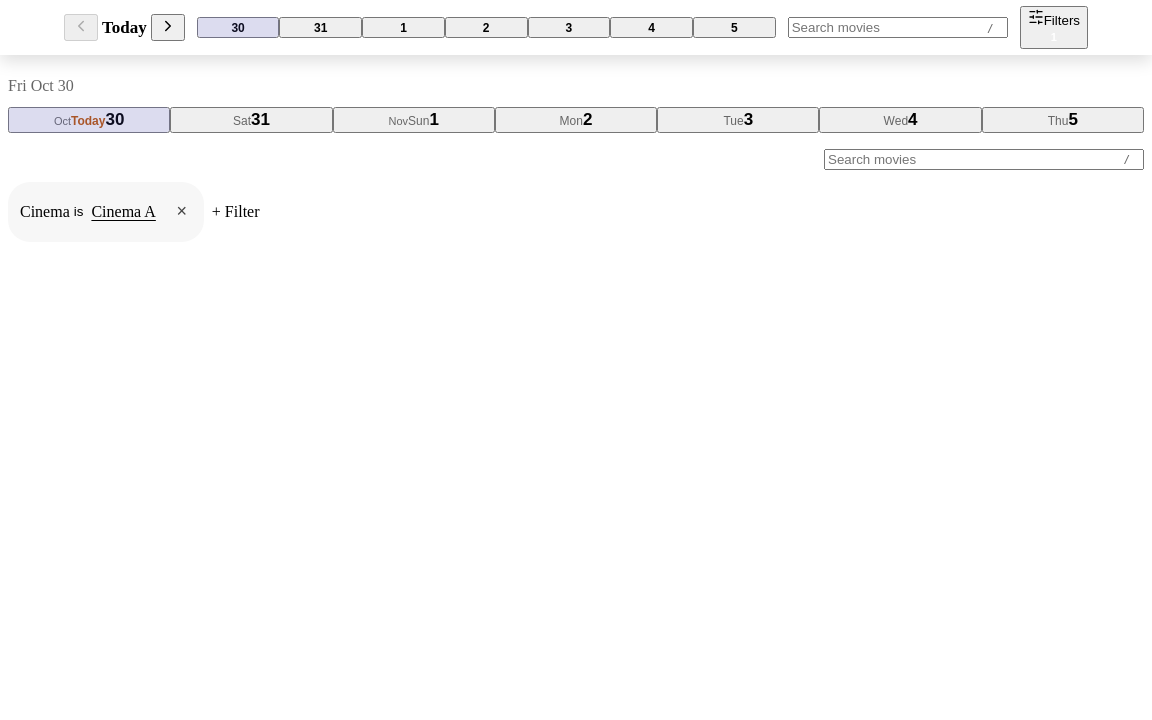
Scenario: edits the same chips from the Filters panel as the expanded header
Later steps or results of the test are not shown.
Click the button with aria-label "Filters (1 active)". click: {"x": 1054, "y": 28}
box: left=1020, top=6, right=1088, bottom=49
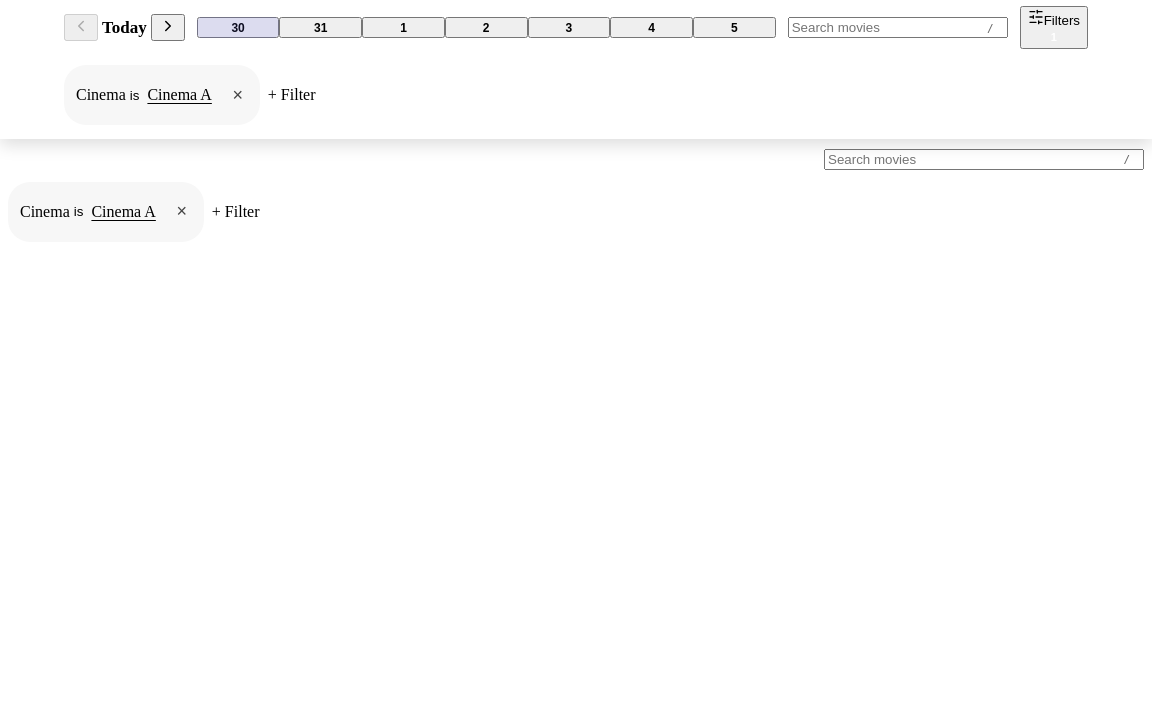
Expected: the element named "cinema filter" shows "Cinema is Cinema A", left=64, top=65, right=260, bottom=125
Click the button with aria-label "Change cinema operator from is". click: {"x": 135, "y": 95}
box: left=126, top=73, right=143, bottom=117
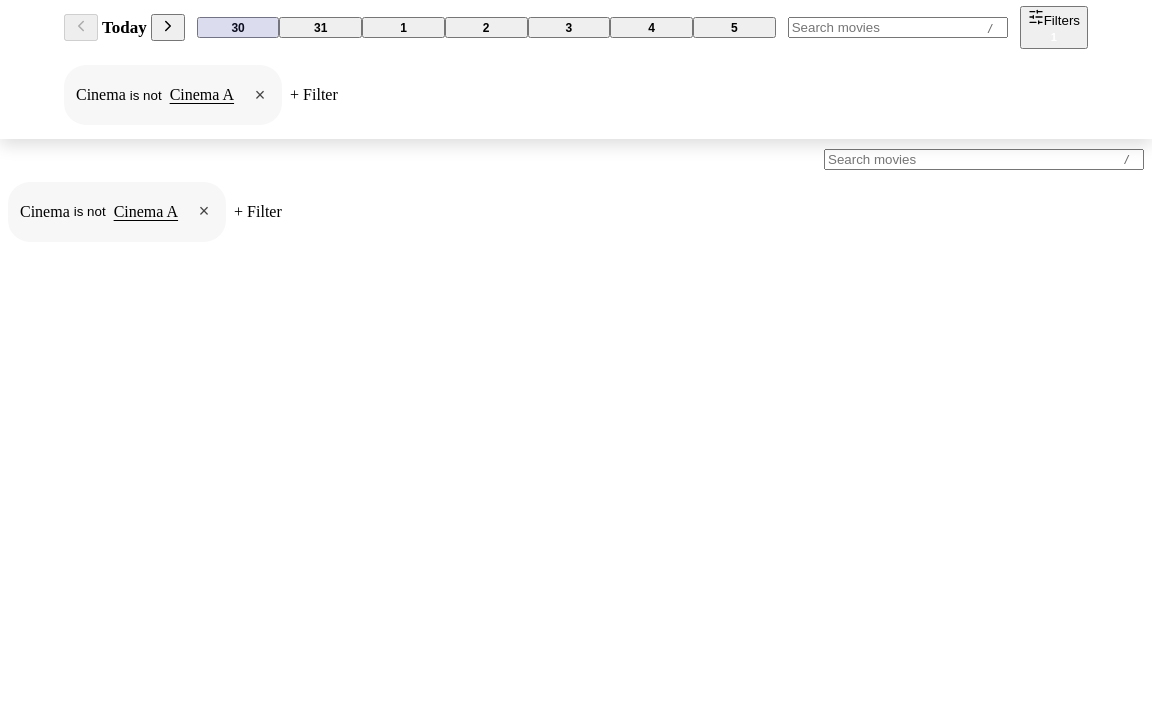
Expected: the element named "cinema filter" shows "Cinema is not Cinema A", left=8, top=182, right=226, bottom=242
Click the 1st heading "+ Filter". click: {"x": 314, "y": 95}
box: left=290, top=86, right=338, bottom=104
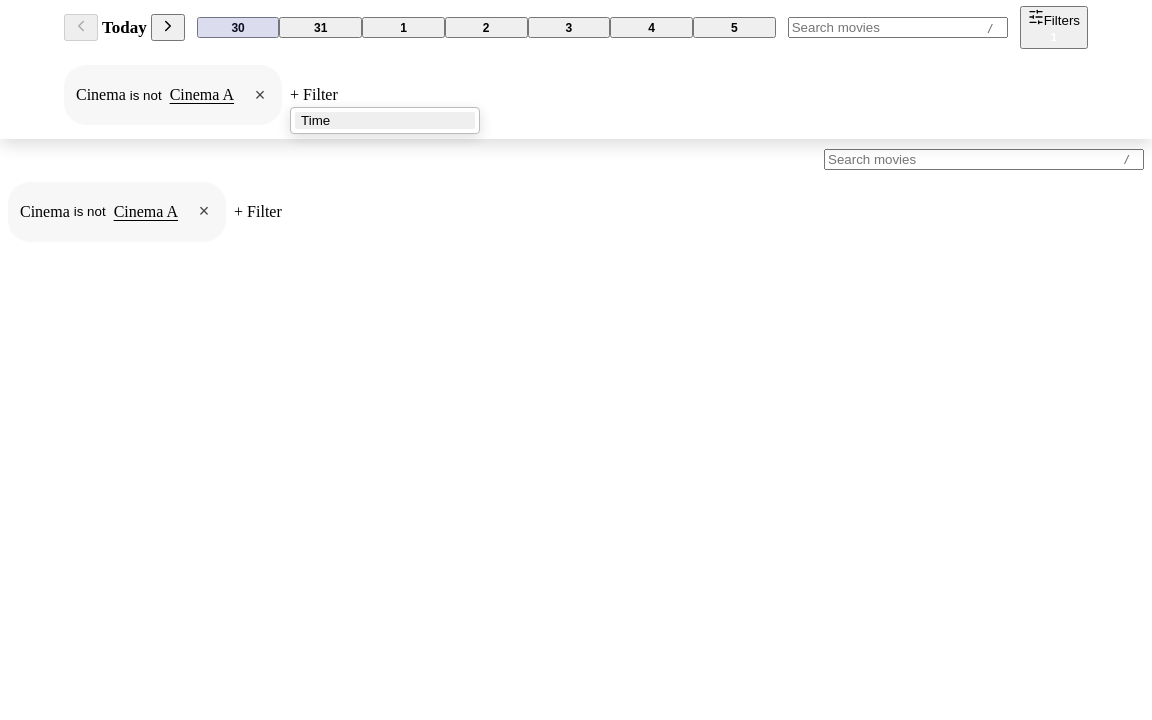
Click the button "Time". click: {"x": 385, "y": 120}
box: left=295, top=112, right=475, bottom=129
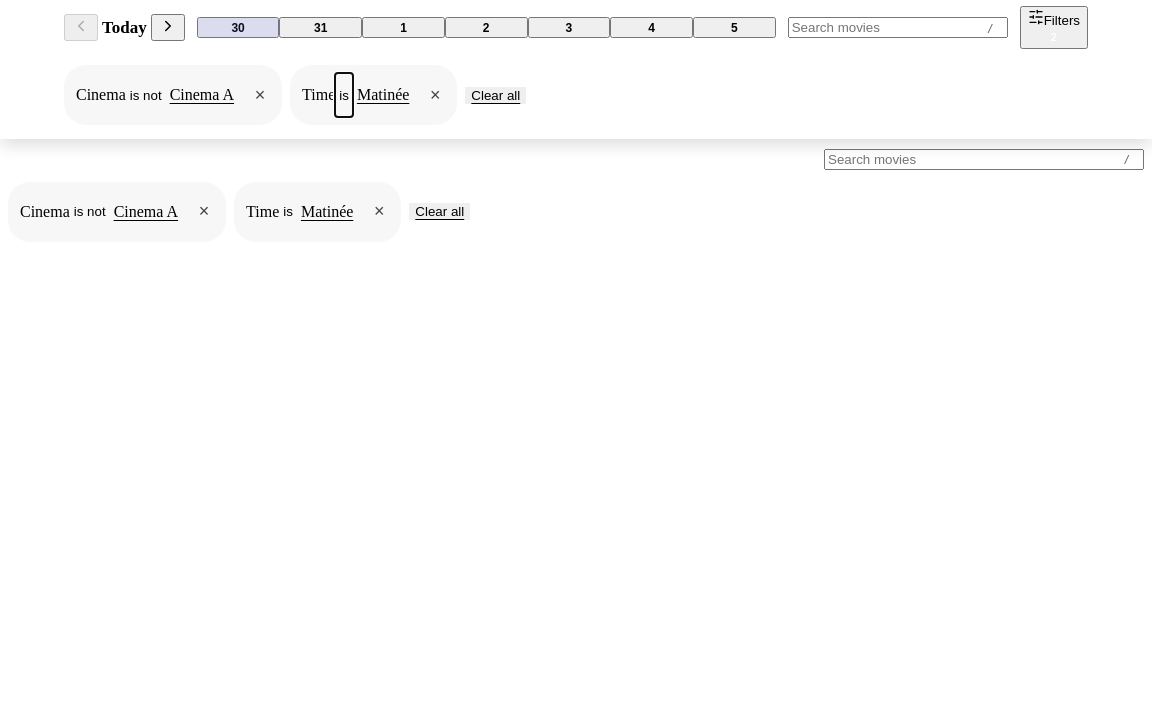
Expected: the button with aria-label "Filters (2 active)" is shown, left=1020, top=6, right=1088, bottom=49
Expected: the element named "time filter" is shown, left=234, top=182, right=401, bottom=242
